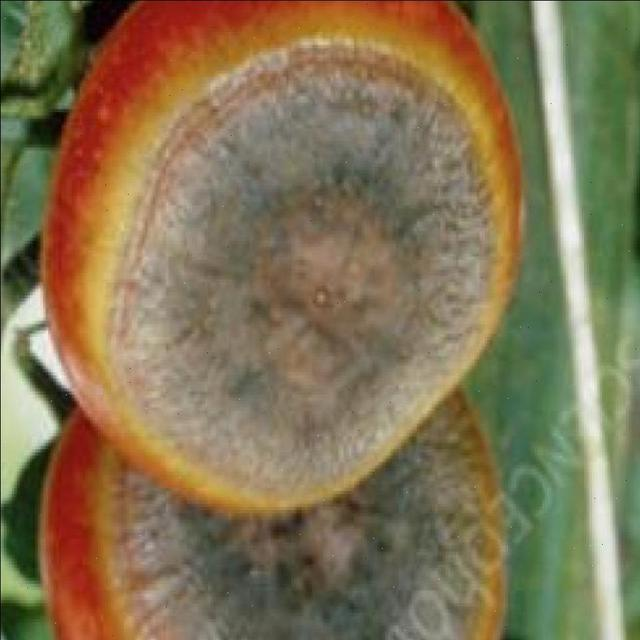Blossom End Rot Fruit: (200, 157, 264, 348)
